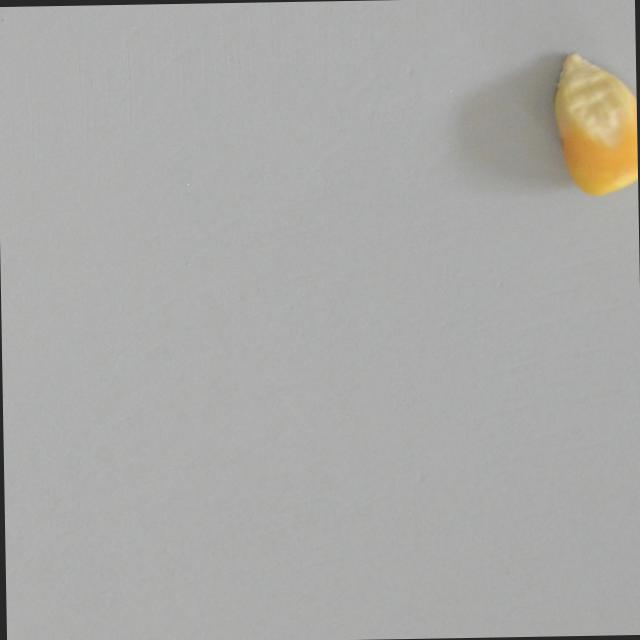entero: (545, 46, 638, 200)
